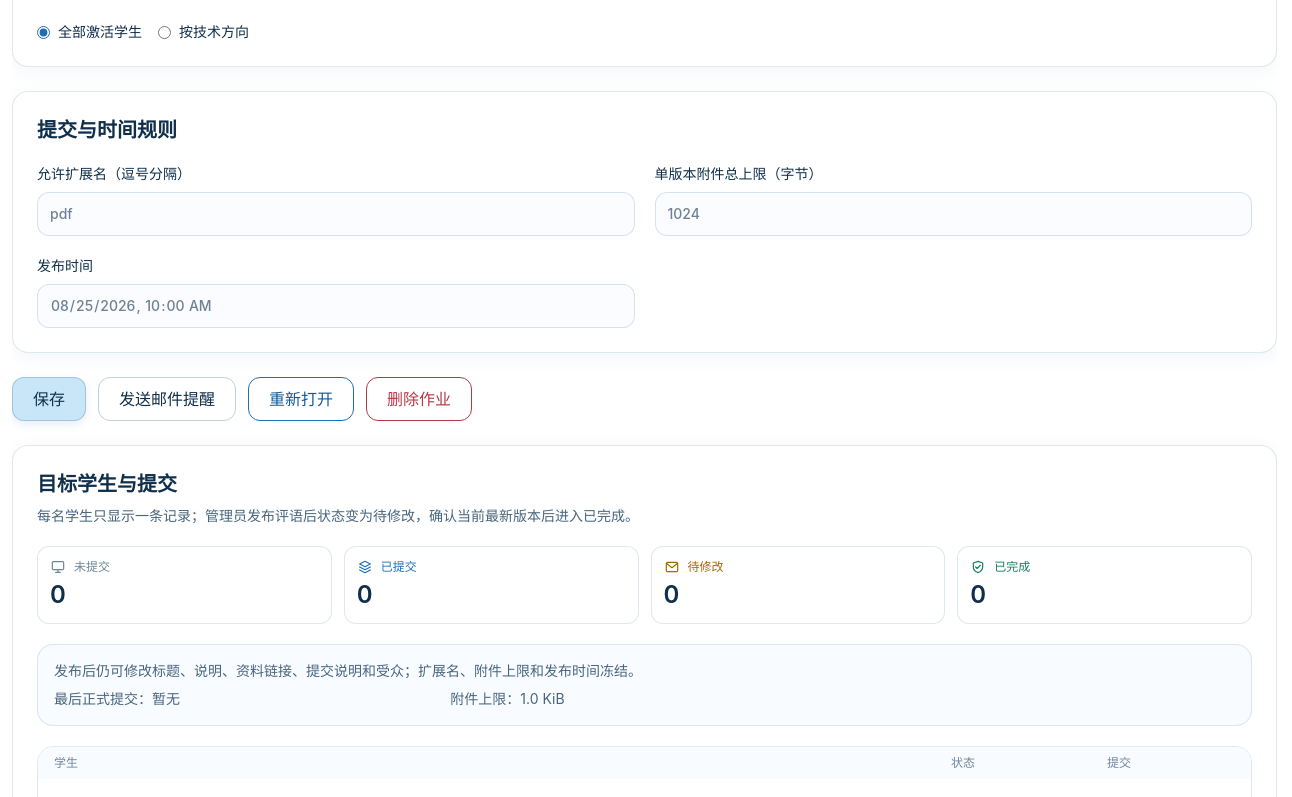
Test: admin permissions UI › reopens a closed assignment and restores the close action
(page scrolled)
Click the button "重新打开": x=301, y=399 [248,377,354,421]
(page scrolled)
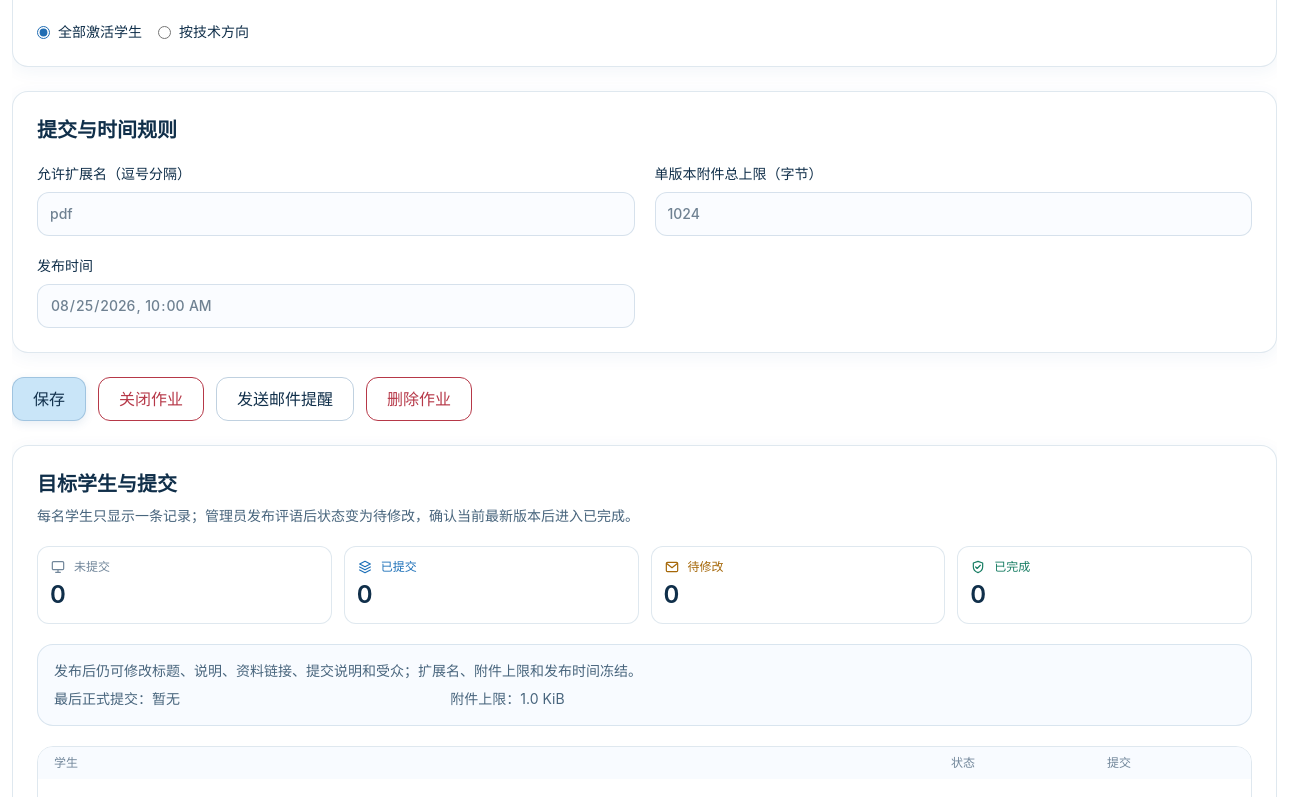
Now the button "关闭作业" is shown, box [98,377,204,421]
